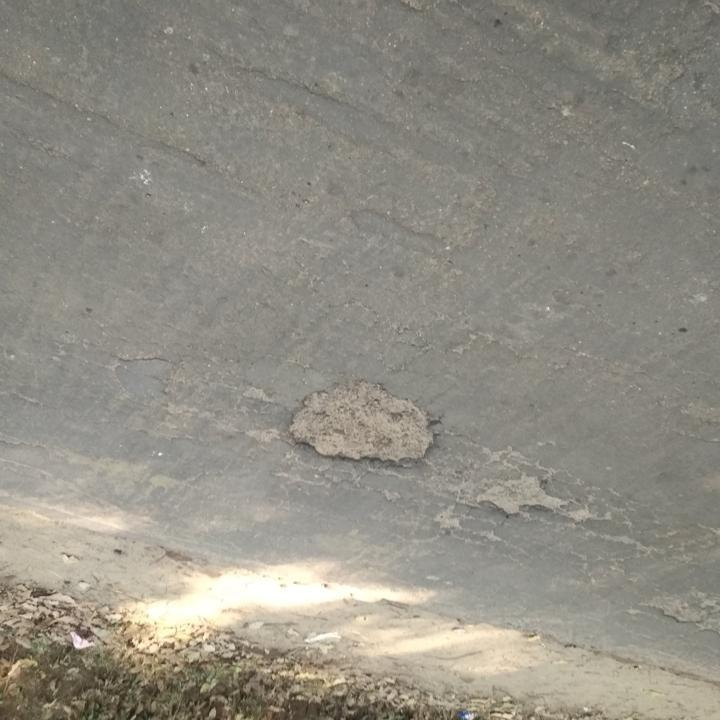pothole: (281, 377, 438, 472), (472, 471, 570, 520)
